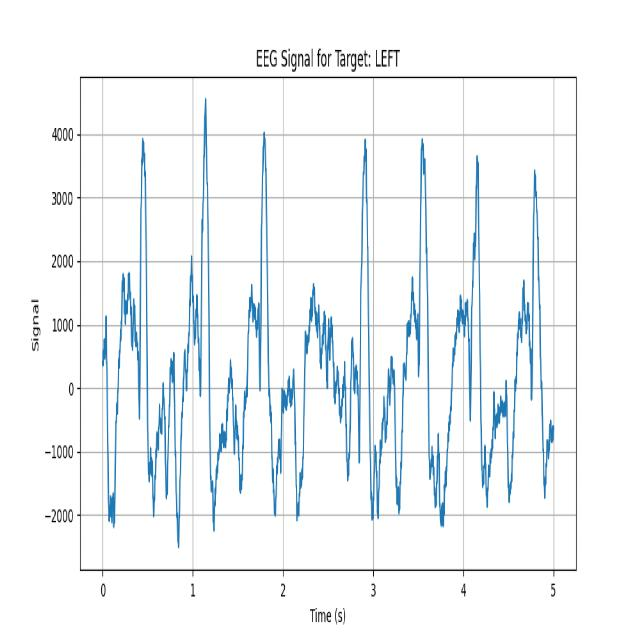LEFT: (163, 86, 233, 541), (329, 94, 393, 547), (446, 93, 506, 540), (233, 84, 290, 546), (392, 95, 447, 545), (102, 133, 163, 534), (504, 89, 558, 539)
